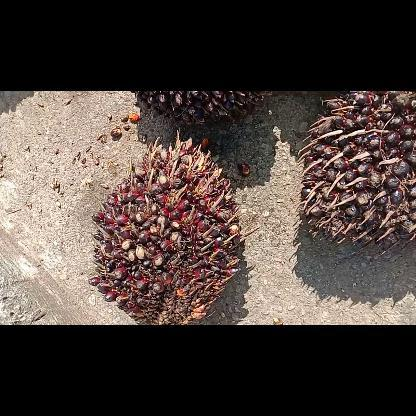TBS mentah: (88, 130, 260, 324), (295, 91, 415, 256), (130, 90, 268, 128)
